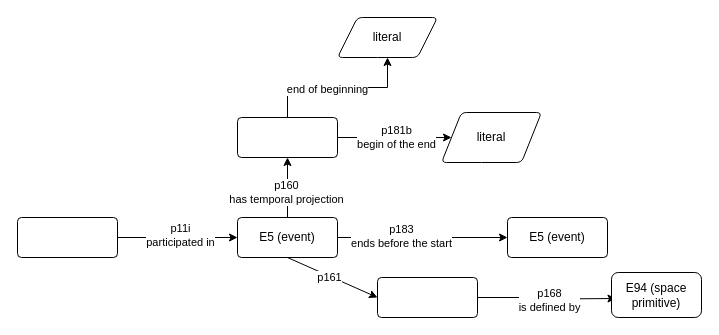
The diagram is 719 pixels wide and 335 high, and some of its shapes have lost their labels. Here are the shapes that lost their labels. From the top down, the box of each, then its label:
(236, 116, 338, 158): E52 (time span)
(16, 216, 118, 258): E39 (actor)
(376, 276, 478, 318): E53 (place)
